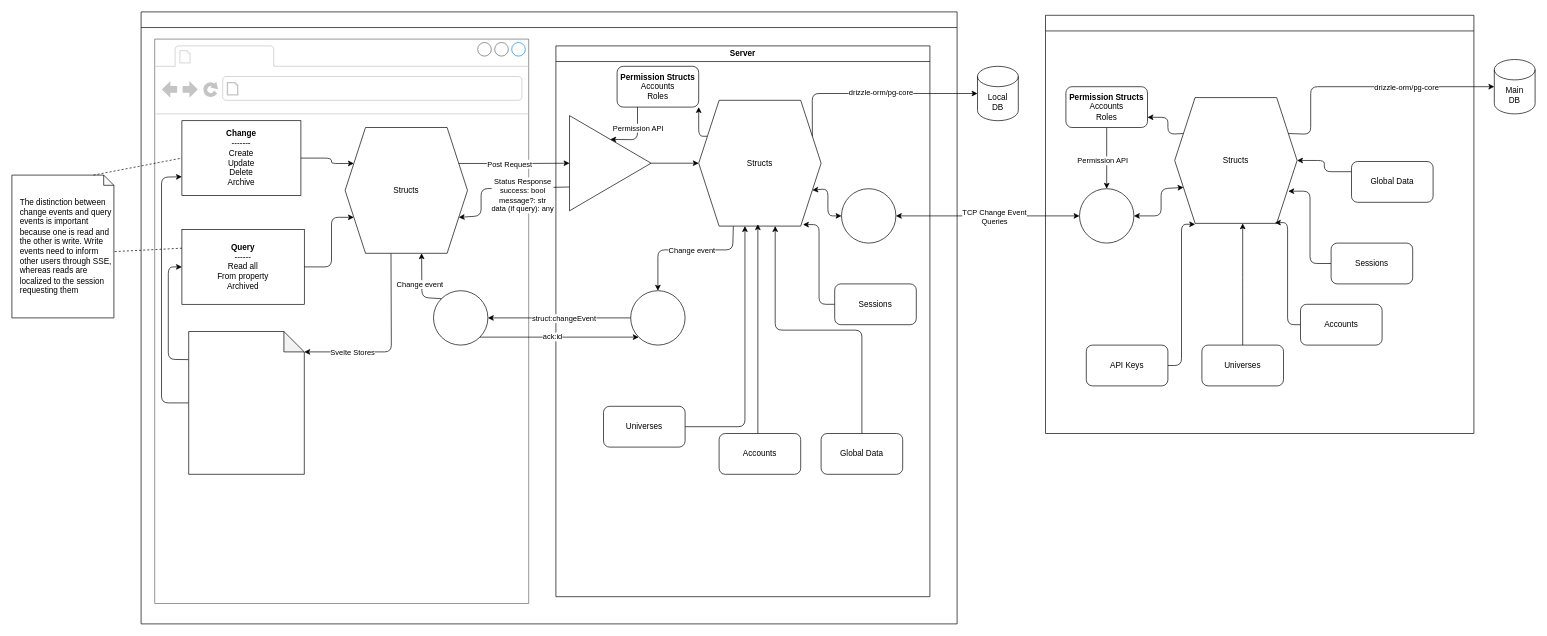
The diagram is 1547 pixels wide and 636 high, and some of its shapes have lost their labels. Each missing label, with the box of its shape:
Central Server Template: (1045, 15, 1474, 434)
Client SSE: (433, 290, 488, 345)
eventHandler(): (569, 115, 651, 211)
https://www.sveltekit.org: (242, 79, 413, 98)
Server SSE: (630, 290, 685, 345)
sveltekit: (195, 47, 270, 65)
Sveltekit Template: (140, 11, 957, 624)
TCP API Client: (841, 188, 896, 243)
TCP API Server: (1079, 188, 1134, 243)
View: (188, 331, 304, 474)
